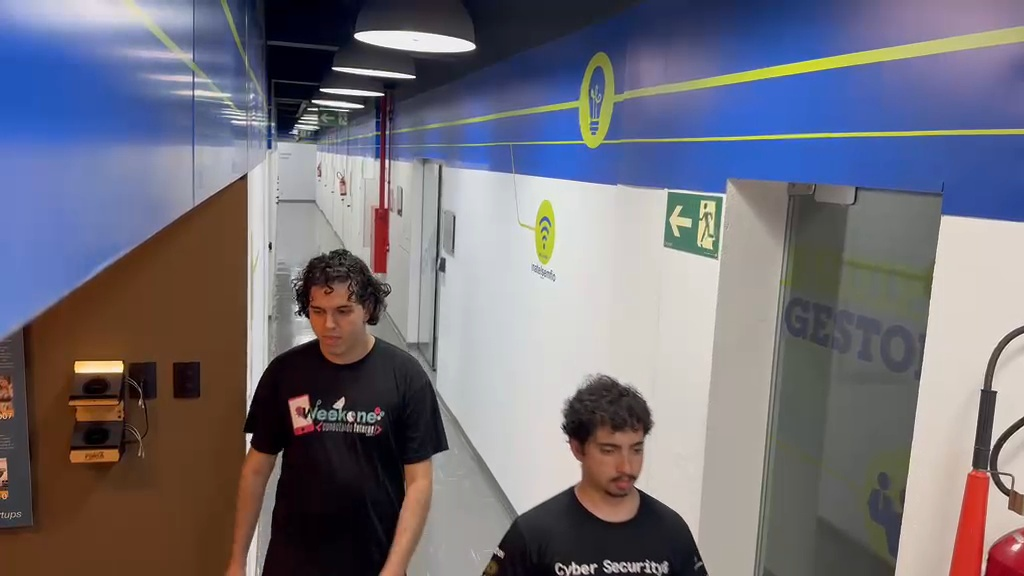person: (226, 249, 447, 572), (484, 373, 709, 574)
